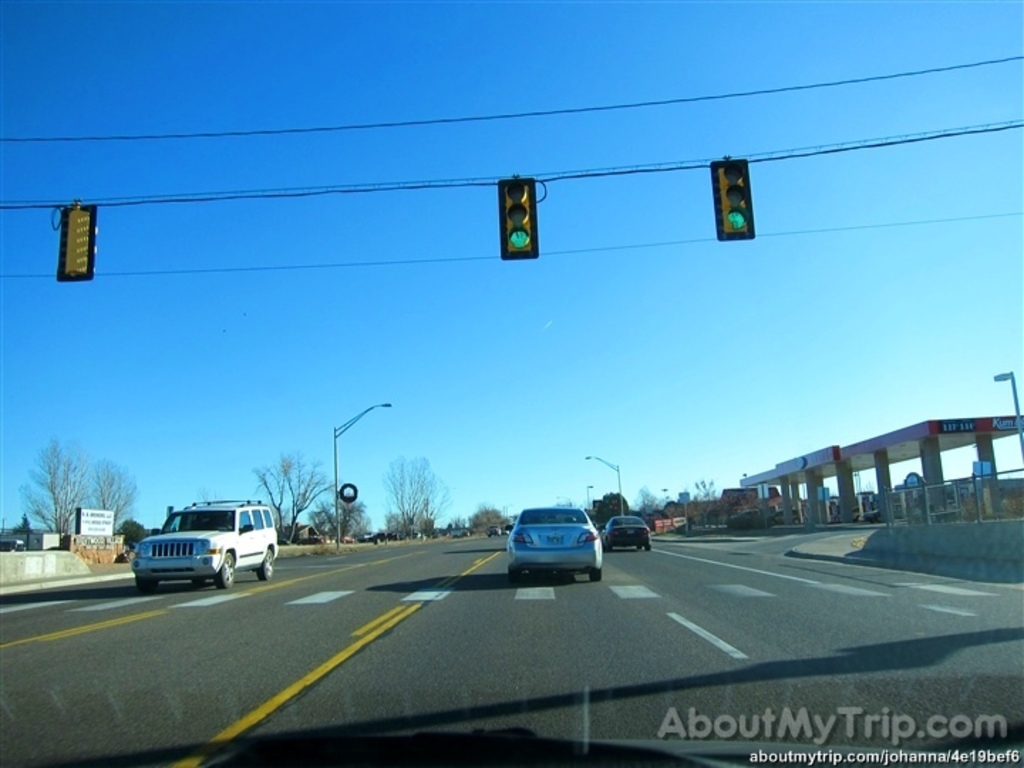green_light: (720, 159, 749, 235), (504, 182, 533, 256)
